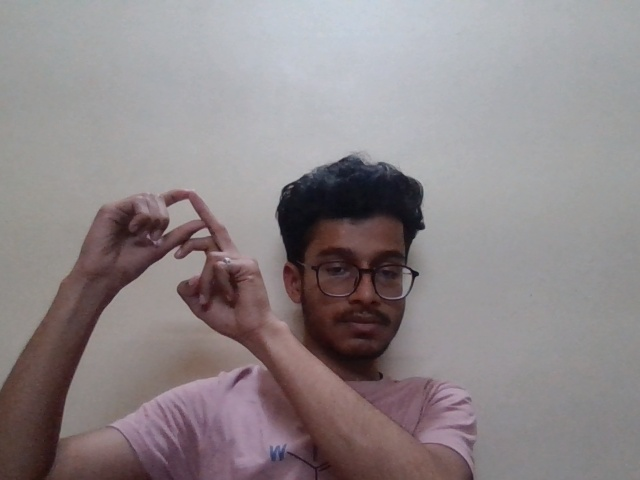R: (62, 182, 283, 348)
